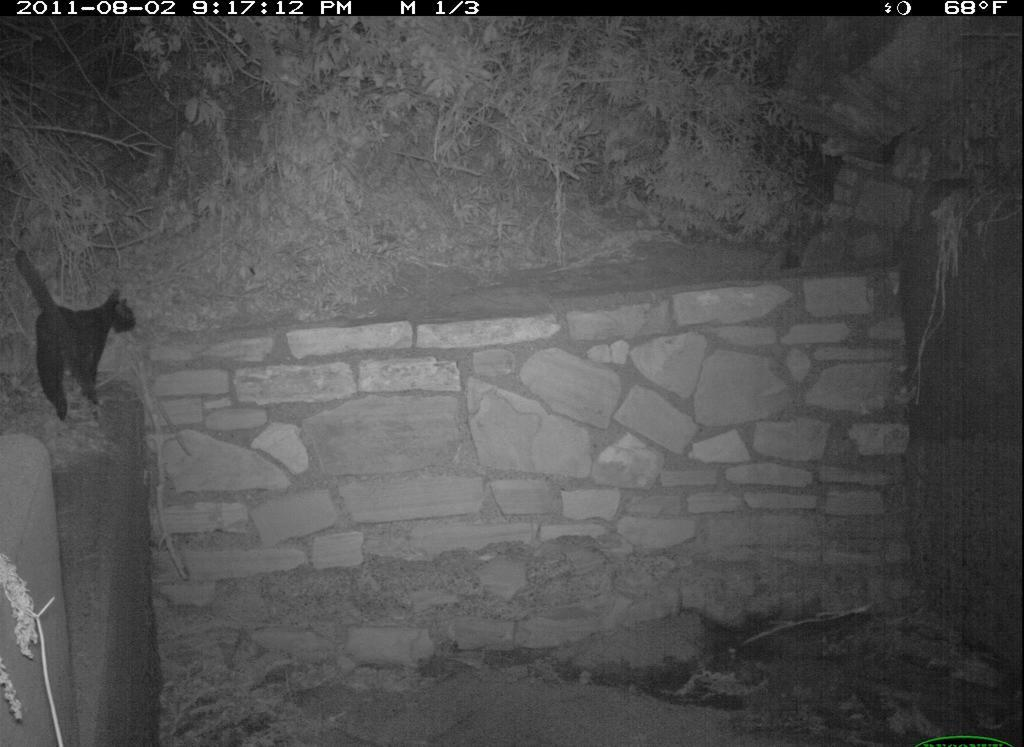cat: (13, 240, 140, 427)
